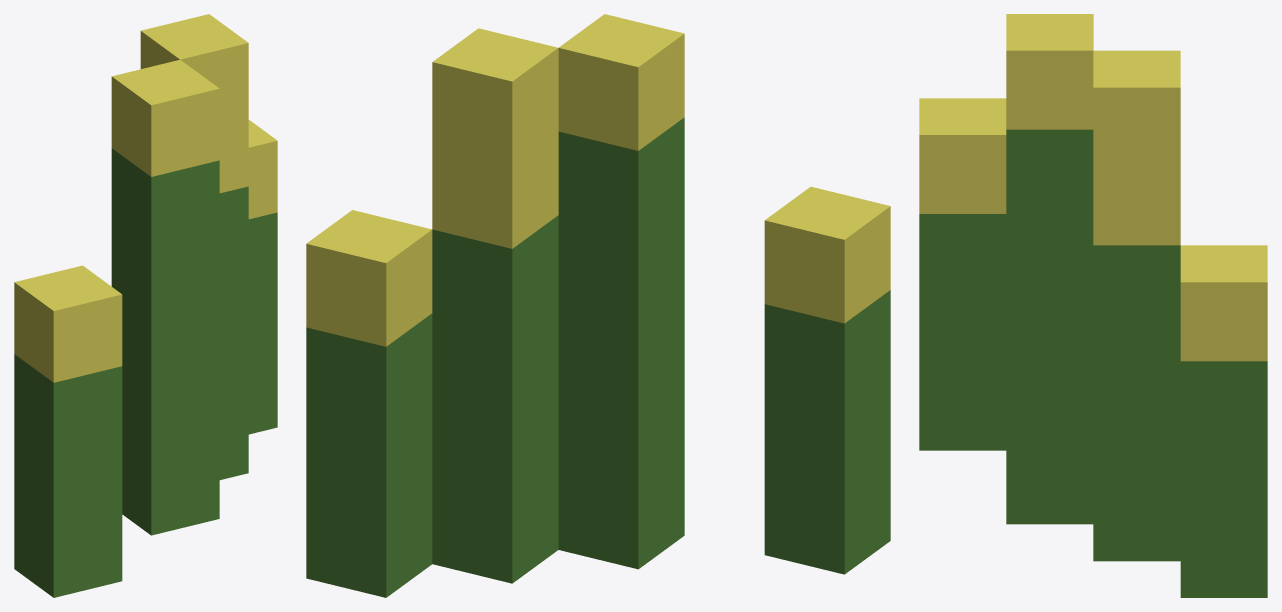
File: flowers_y.glb
3 renders of one model, left to right at view 1: azimuth 30°, elevation 25°; view 2: azimuth 150°, elevation 25°; view 3: azimuth 270°, elevation 25°, orthographic. The views are drawn at different scales.
Visible parts, largest first — view 1: flowers_y; view 2: flowers_y; view 3: flowers_y.
Part boxes in pixels (bbox=[...]): flowers_y: bbox=[14, 14, 277, 597]; flowers_y: bbox=[306, 14, 890, 597]; flowers_y: bbox=[919, 14, 1267, 597].
Bounding box in the file's own units: 0.1 × 0.12 × 0.08.
1 material, 1 textured.
